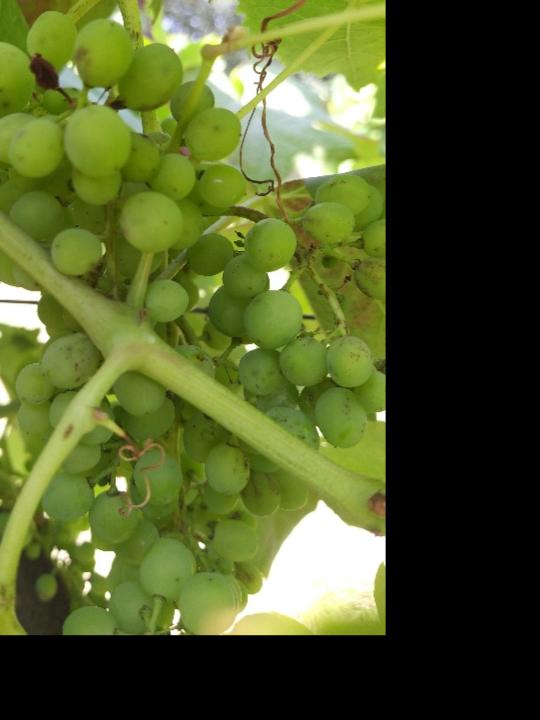grape: (0, 10, 375, 607)
